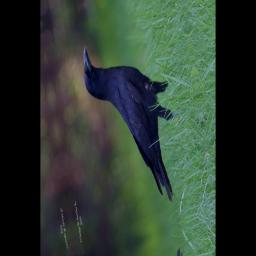Crow: (79, 12, 194, 232)
